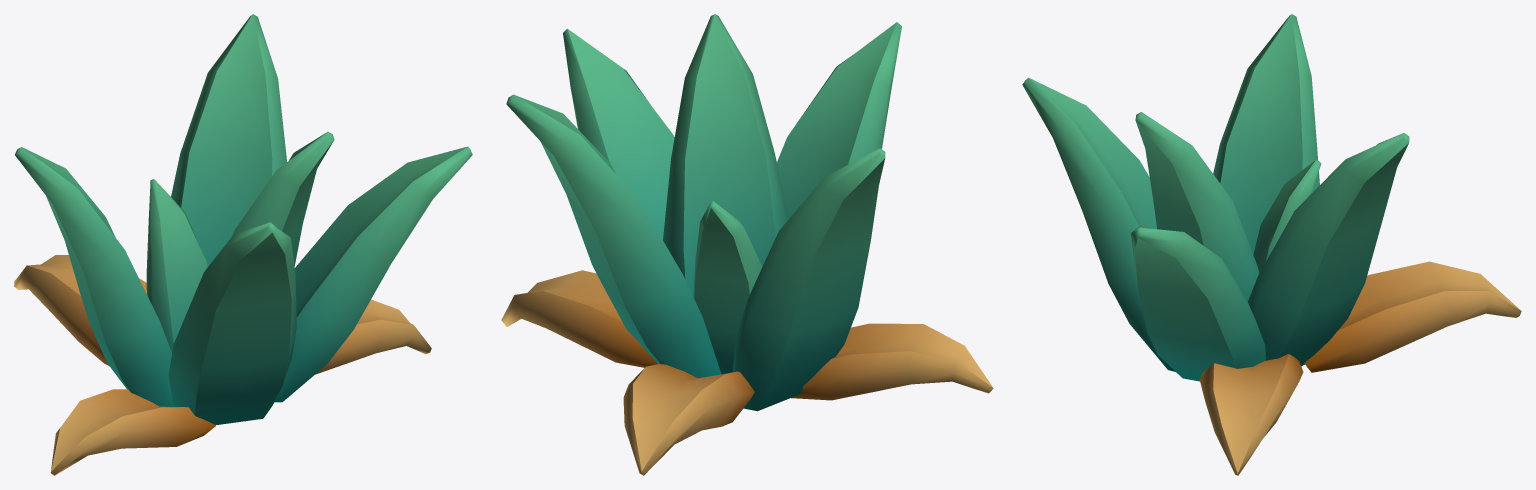
3 renders of one model, left to right at view 1: azimuth 30°, elevation 25°; view 2: azimuth 150°, elevation 25°; view 3: azimuth 270°, elevation 25°, orthographic. The views are drawn at different scales.
Visible parts, largest first — view 1: LOD 1_14127737254430187619_3e1162219392c0d418059c435572ff39; view 2: LOD 1_14127737254430187619_3e1162219392c0d418059c435572ff39; view 3: LOD 1_14127737254430187619_3e1162219392c0d418059c435572ff39.
Boxes of the visible parts, x1,y1,x2,y2 form: LOD 1_14127737254430187619_3e1162219392c0d418059c435572ff39: (14,14,472,475); LOD 1_14127737254430187619_3e1162219392c0d418059c435572ff39: (501,14,993,475); LOD 1_14127737254430187619_3e1162219392c0d418059c435572ff39: (1022,14,1521,475).
Bounding box in the file's own units: 0.9316 × 0.6423 × 0.9602.
